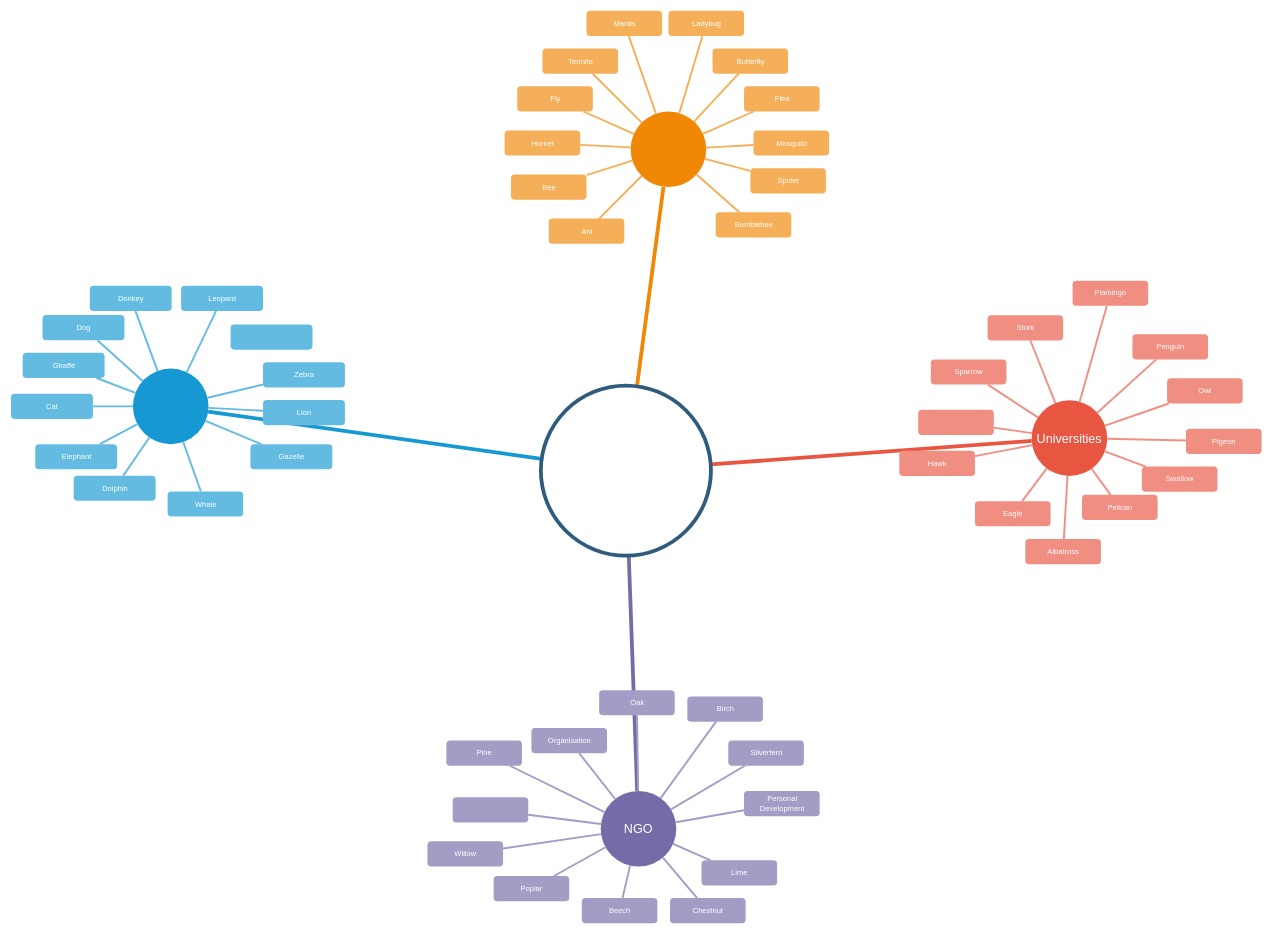
Image size: 1272x934. Some labels were removed from this diagram. Here are the shapes that lost their labels. From the top down, the centre of each, then its label:
(668,149): Academia
(271,336): Horse
(170,406): Industry
(956,422): Falcon
(626,470): AI@Greece
(490,809): Acacia
